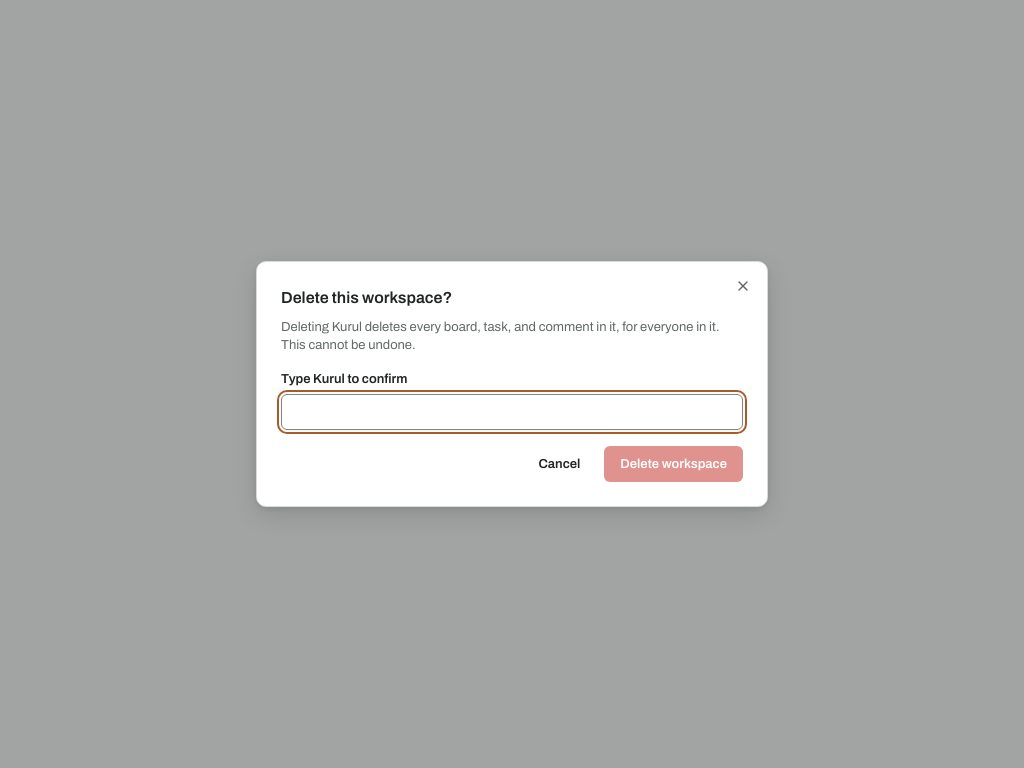
Test: DeleteWorkspaceDialog › shows the scoped 403 wording and never the raw server message
Type "Kurul" into the field labelled "Type Kurul to confirm".
click(512, 412); type("Kurul")  # box [281, 394, 743, 430]
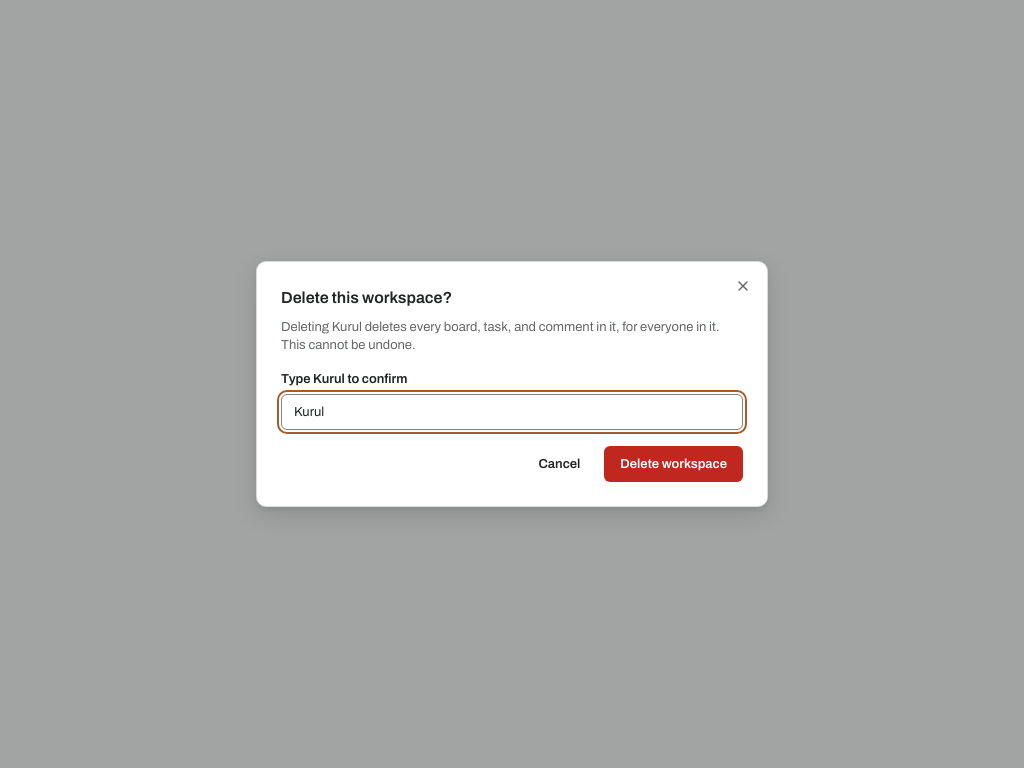
Click the button "Delete workspace".
click(674, 464)  # box [604, 446, 743, 482]
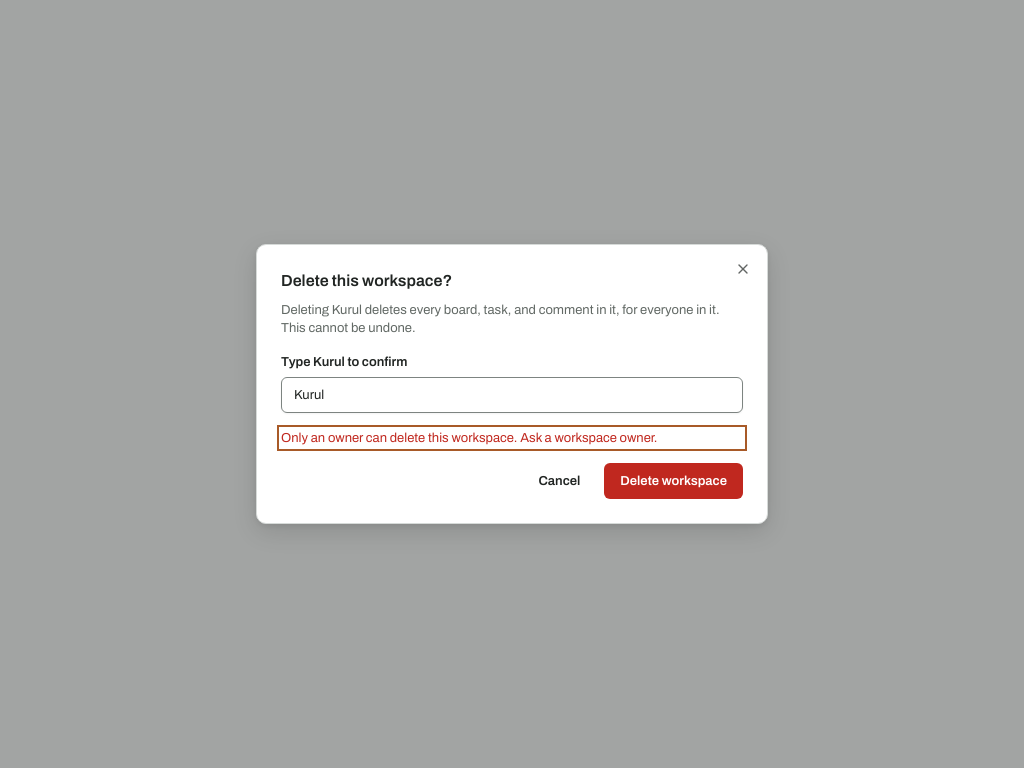
Expected: the text "Only an owner can delete this workspace. Ask a workspace owner." is shown, [281, 431, 657, 445]
